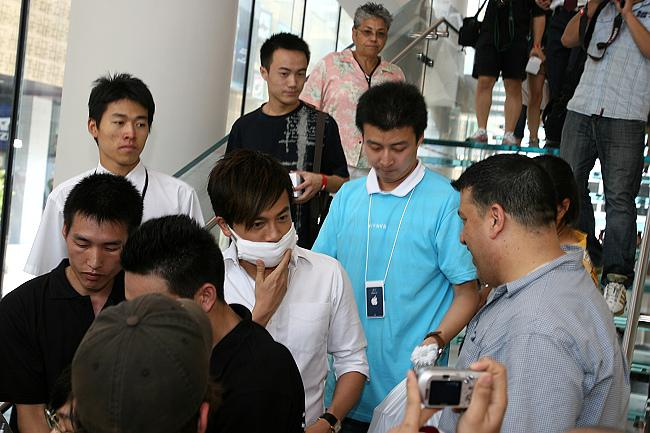NONE: (455, 206, 510, 276), (68, 231, 123, 288), (101, 111, 150, 162), (361, 133, 415, 179), (270, 61, 308, 103), (356, 25, 386, 56)
WRONG: (239, 203, 303, 267)
